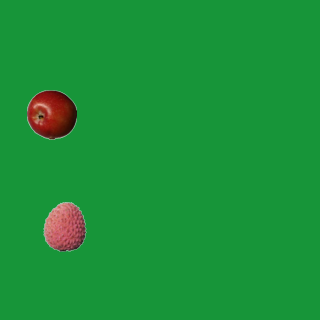Apple Braeburn: (26, 89, 76, 139)
Lychee: (39, 201, 89, 251)
